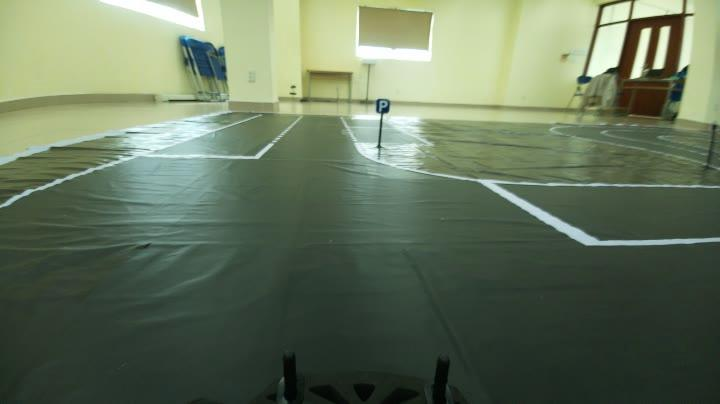parking: (369, 94, 391, 118)
